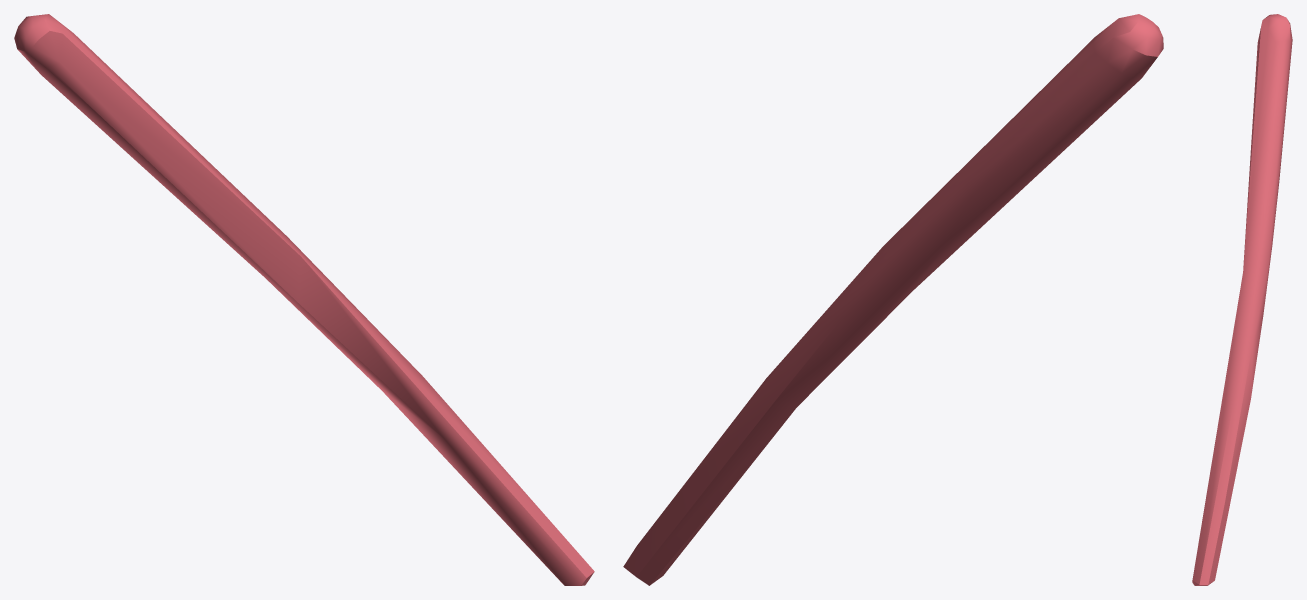
The model's file is fma9450_fj2954.glb.
3 views of the same model, side by side, from view 1: azimuth 30°, elevation 25°; view 2: azimuth 150°, elevation 25°; view 3: azimuth 270°, elevation 25° (orthographic). The views are drawn at different scales.
Parts seen in each view (by area): view 1: FMA9450_FJ2954; view 2: FMA9450_FJ2954; view 3: FMA9450_FJ2954.
Boxes of the visible parts, <box> form: FMA9450_FJ2954: <box>14,14,594,585</box>; FMA9450_FJ2954: <box>623,14,1163,585</box>; FMA9450_FJ2954: <box>1192,14,1292,585</box>.
Size of the model in its own units: 0.0264 by 0.0314 by 0.0068.
